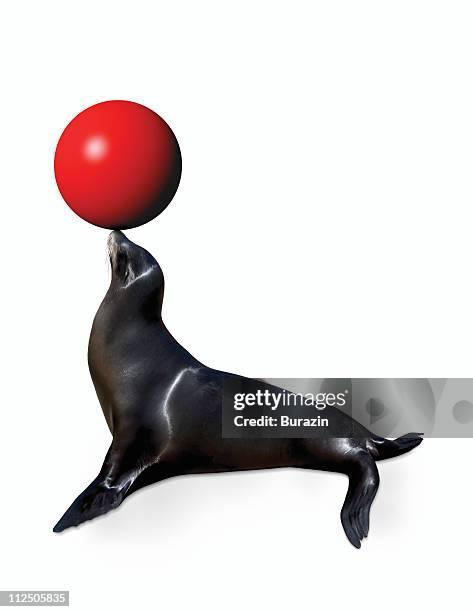Red_Ball: (40, 88, 188, 237)
